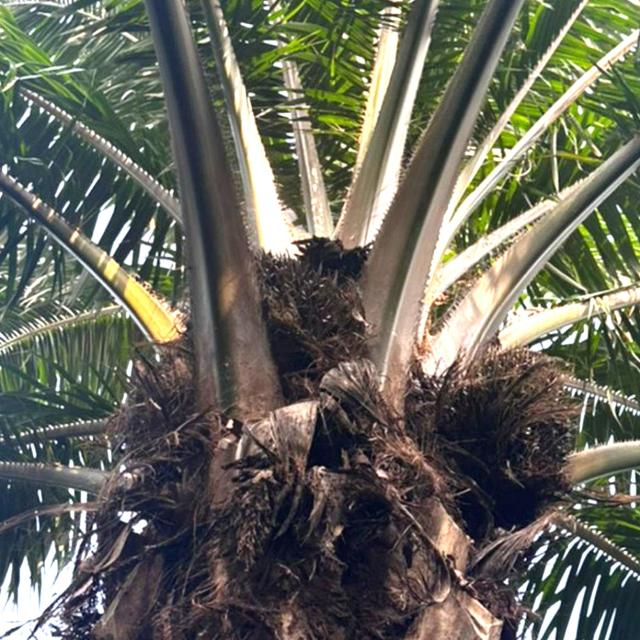ripe: (246, 245, 378, 355)
